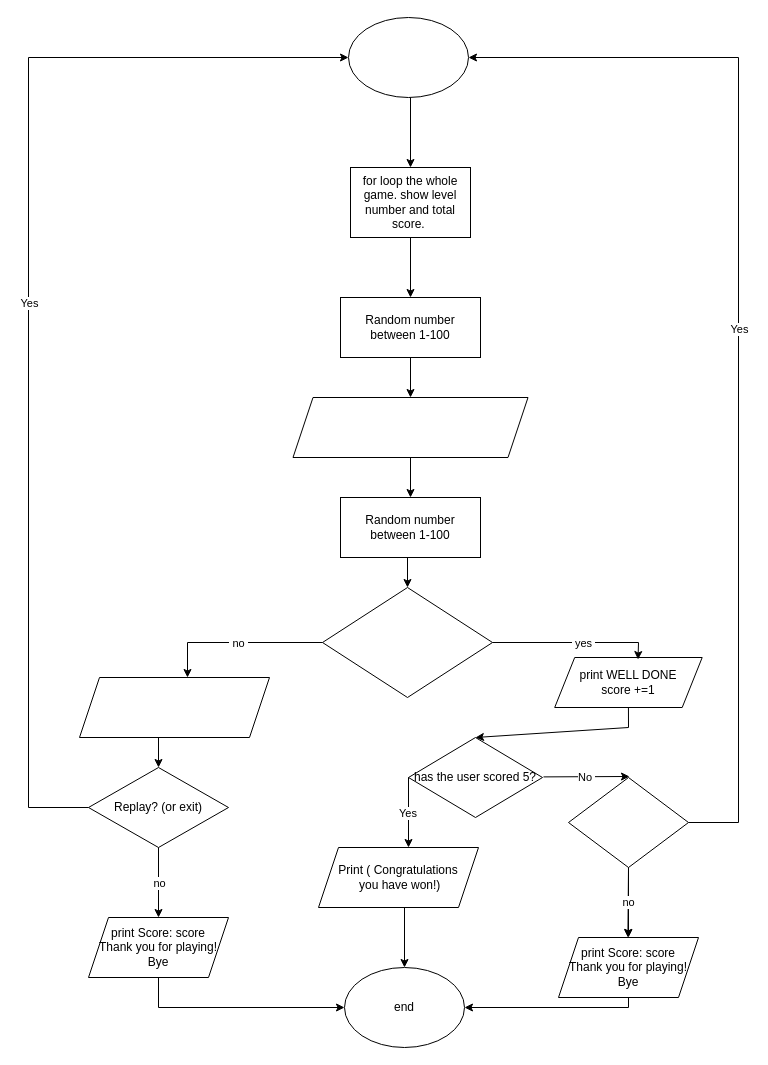
Some shapes in this 768 by 1065 pixel diagram are drawn without their labels. Here are the shapes that lost their labels. From the top down, the centre of each, then its label:
At [408,57]: "Start".
At [410,427]: "User Input guess - (Next number is higher or lower?)".
At [407,642]: "Guesses correct".
At [174,707]: "Oh No TRY AGAIN! Would you like to replay?Y/N Score = Score".
At [628,822]: "next level/exit?".
